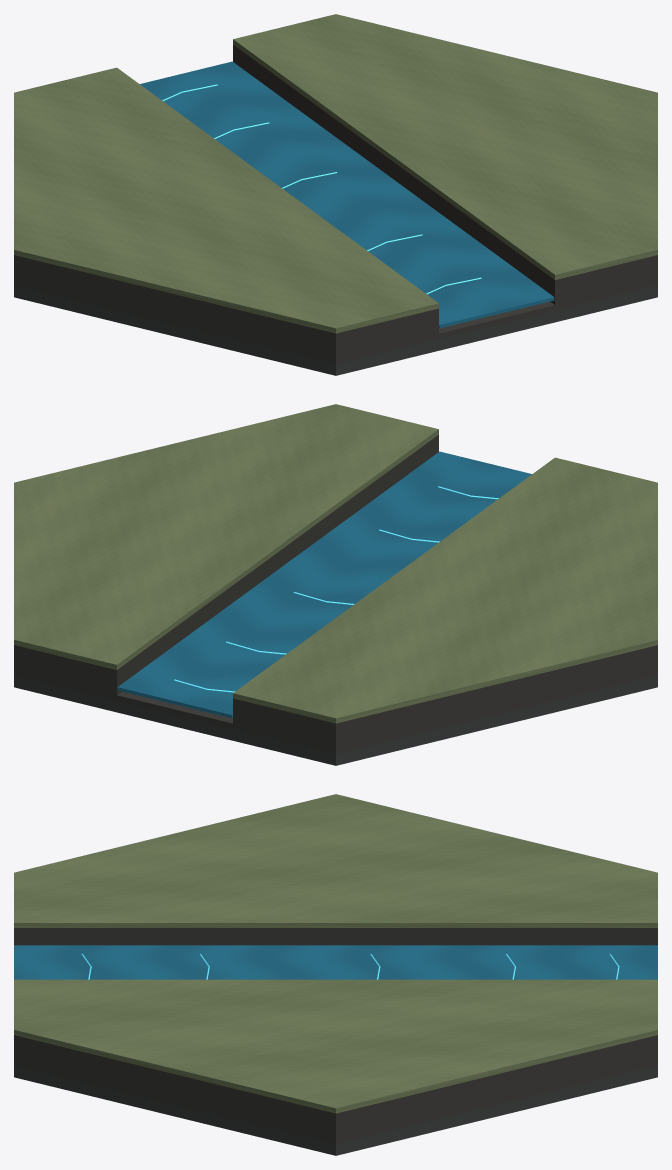
The model's file is forest_hex_stream.glb.
The picture shows the model from 3 angles, top to bottom: view 1: azimuth 30°, elevation 25°; view 2: azimuth 150°, elevation 25°; view 3: azimuth 270°, elevation 25°; orthographic projection.
Visible parts, largest first — view 1: Meadow river bank, Meadow river bank.001, Continuous river water, Cut river bank, Cut river bank.001, River hex stone foundation, River hex bed; view 2: Meadow river bank, Meadow river bank.001, Continuous river water, Cut river bank, Cut river bank.001, River hex stone foundation, River hex bed; view 3: Meadow river bank.001, Meadow river bank, Continuous river water, Cut river bank.001, Cut river bank, River hex stone foundation, River hex bed.
Part boxes in pixels (bbox=[...]): Meadow river bank: bbox=[14, 67, 438, 333]; Meadow river bank.001: bbox=[233, 14, 657, 279]; Continuous river water: bbox=[140, 61, 554, 328]; Cut river bank: bbox=[14, 255, 438, 358]; Cut river bank.001: bbox=[233, 44, 657, 305]; River hex stone foundation: bbox=[14, 285, 657, 375]; River hex bed: bbox=[14, 280, 657, 363]; Meadow river bank: bbox=[233, 457, 657, 723]; Meadow river bank.001: bbox=[14, 404, 438, 669]; Continuous river water: bbox=[117, 451, 531, 718]; Cut river bank: bbox=[233, 645, 657, 748]; Cut river bank.001: bbox=[14, 434, 438, 695]; River hex stone foundation: bbox=[14, 675, 657, 765]; River hex bed: bbox=[14, 670, 657, 753]; Meadow river bank.001: bbox=[14, 979, 657, 1113]; Meadow river bank: bbox=[14, 794, 657, 927]; Continuous river water: bbox=[14, 945, 657, 979]; Cut river bank.001: bbox=[14, 1035, 657, 1138]; Cut river bank: bbox=[14, 928, 657, 945]; River hex stone foundation: bbox=[14, 1065, 657, 1155]; River hex bed: bbox=[14, 1060, 657, 1143].
Size of the model in its own units: 5.1 by 0.36 by 4.42.
Materials: 5 (3 with a texture image).
